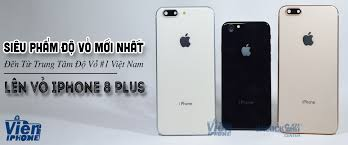iphone: (152, 4, 220, 140), (275, 3, 343, 139)
